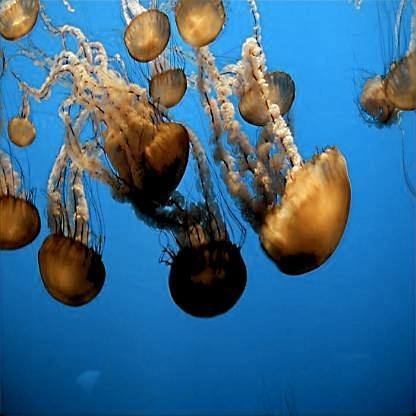Dressed: (46, 40, 188, 204), (230, 123, 351, 271), (151, 182, 247, 321), (46, 140, 106, 306), (220, 39, 297, 123), (0, 156, 38, 253), (384, 15, 416, 113), (121, 2, 169, 60), (147, 55, 189, 109), (176, 0, 224, 45), (359, 73, 400, 125), (11, 89, 37, 152), (2, 3, 38, 37)
